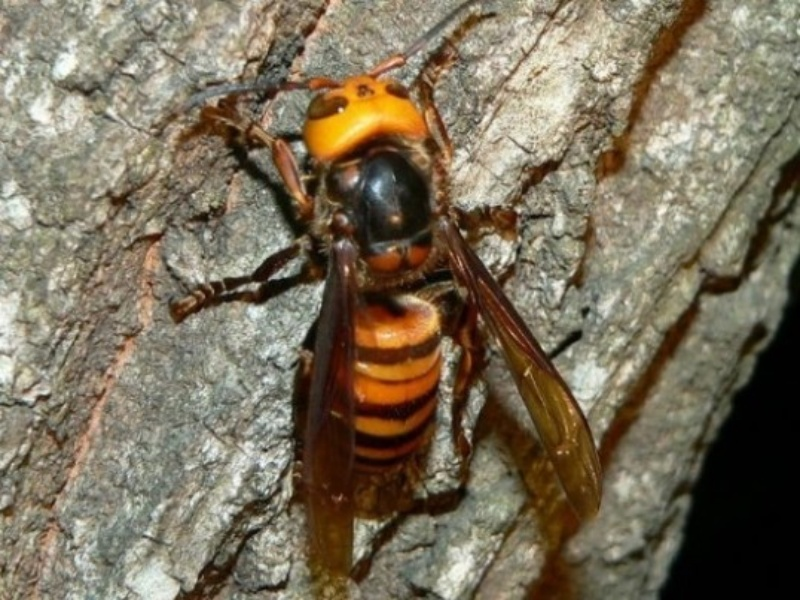asian_giant_hornet: (244, 45, 452, 474)
